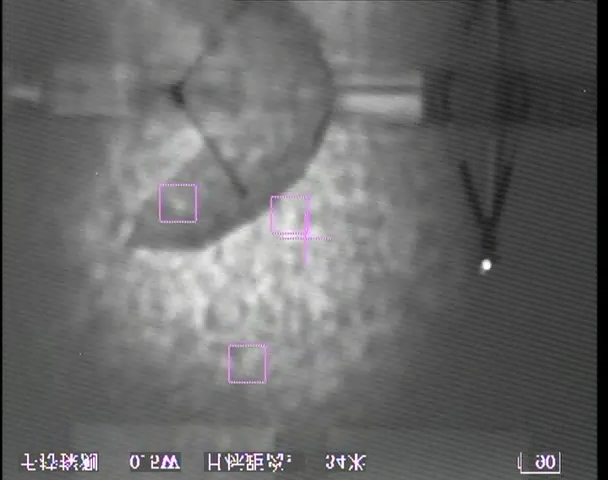my: (480, 258, 492, 270)
